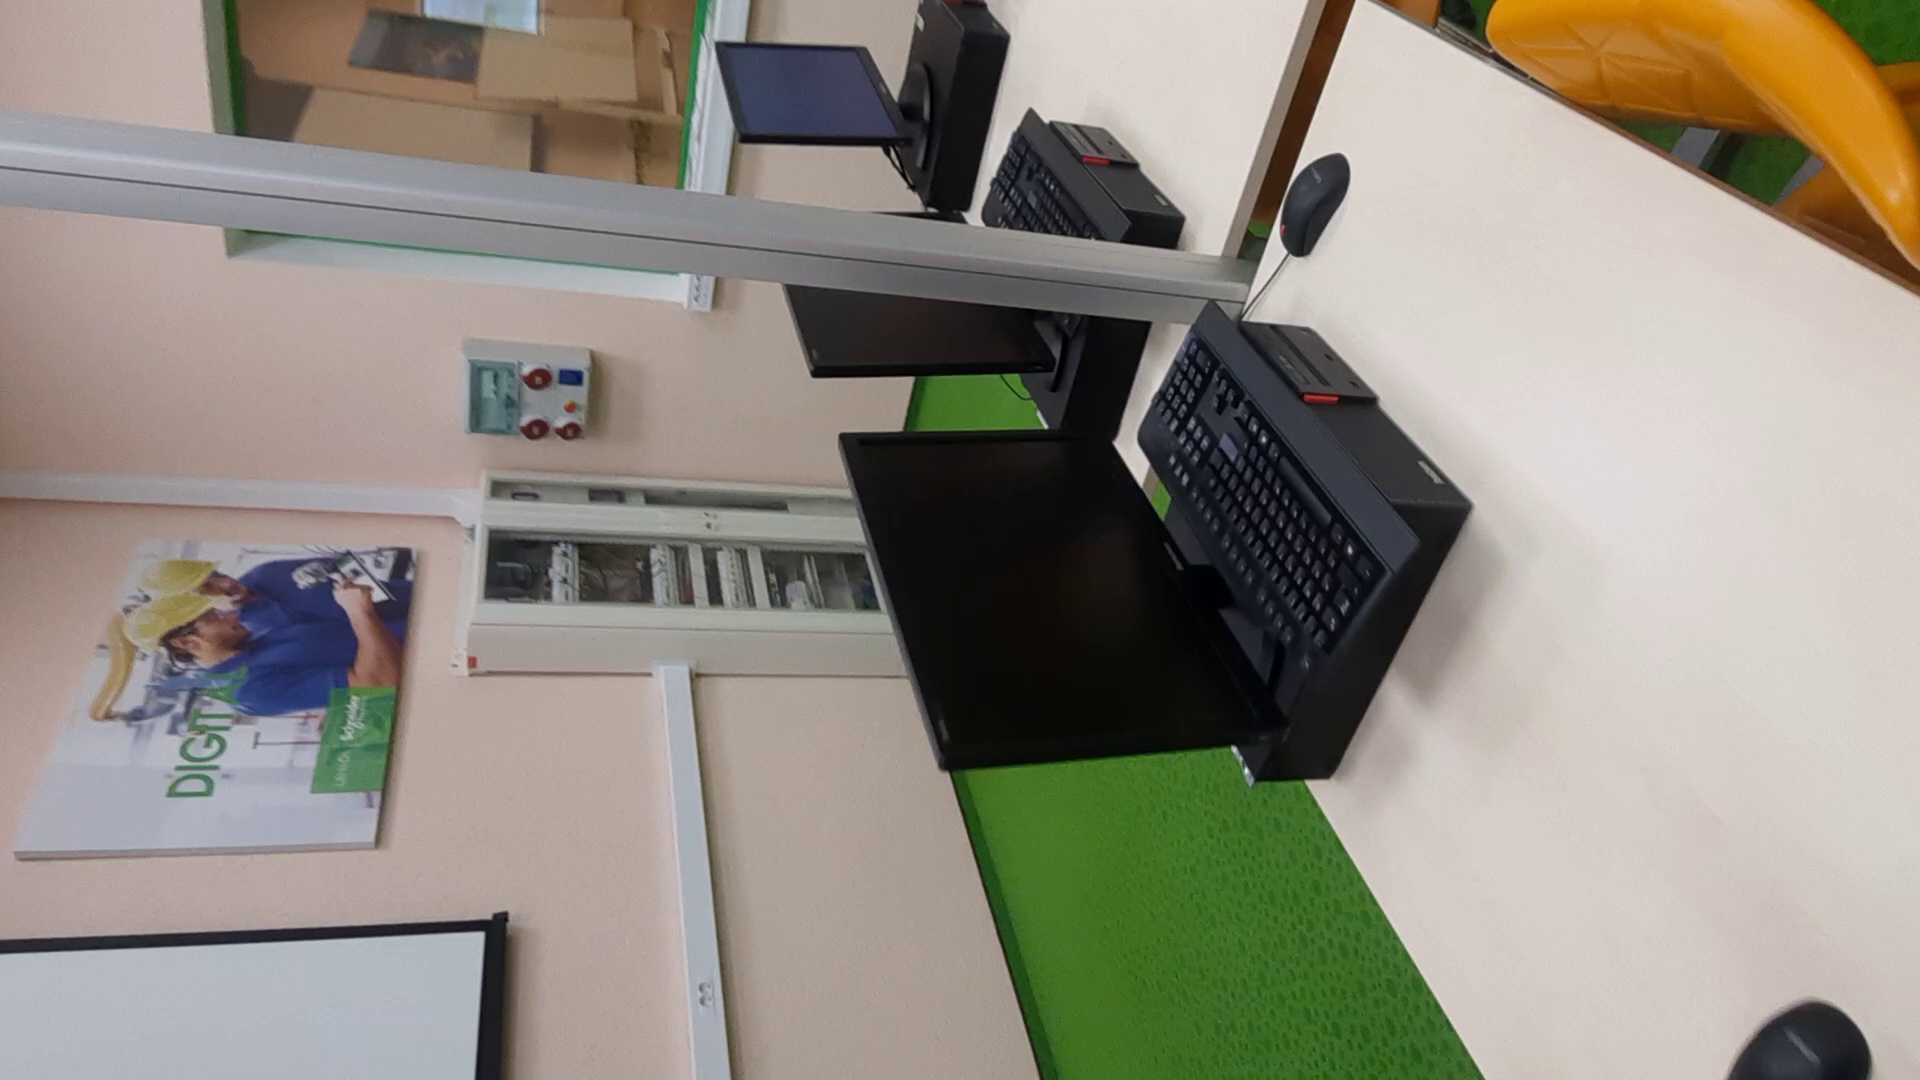stand1: (454, 473, 886, 674)
